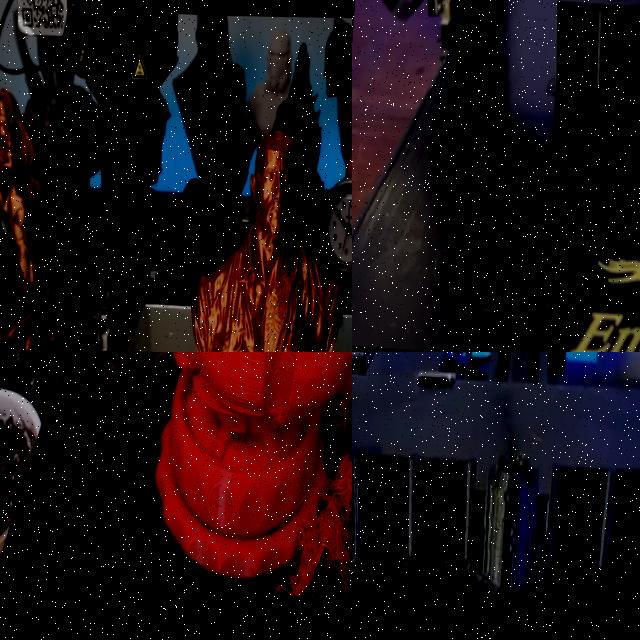spaghetti: (289, 361, 352, 601), (99, 352, 137, 390)
